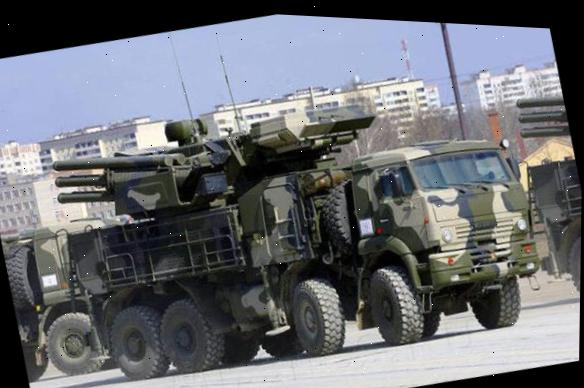truck: (35, 32, 575, 388), (0, 196, 145, 388), (499, 78, 583, 314)
